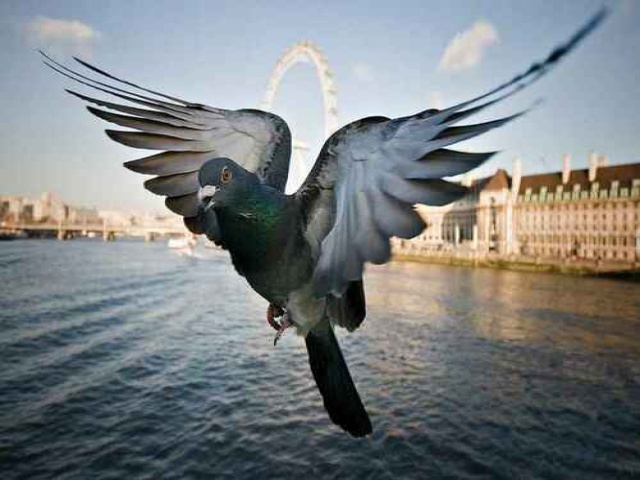Pigeon: (35, 41, 596, 443)
